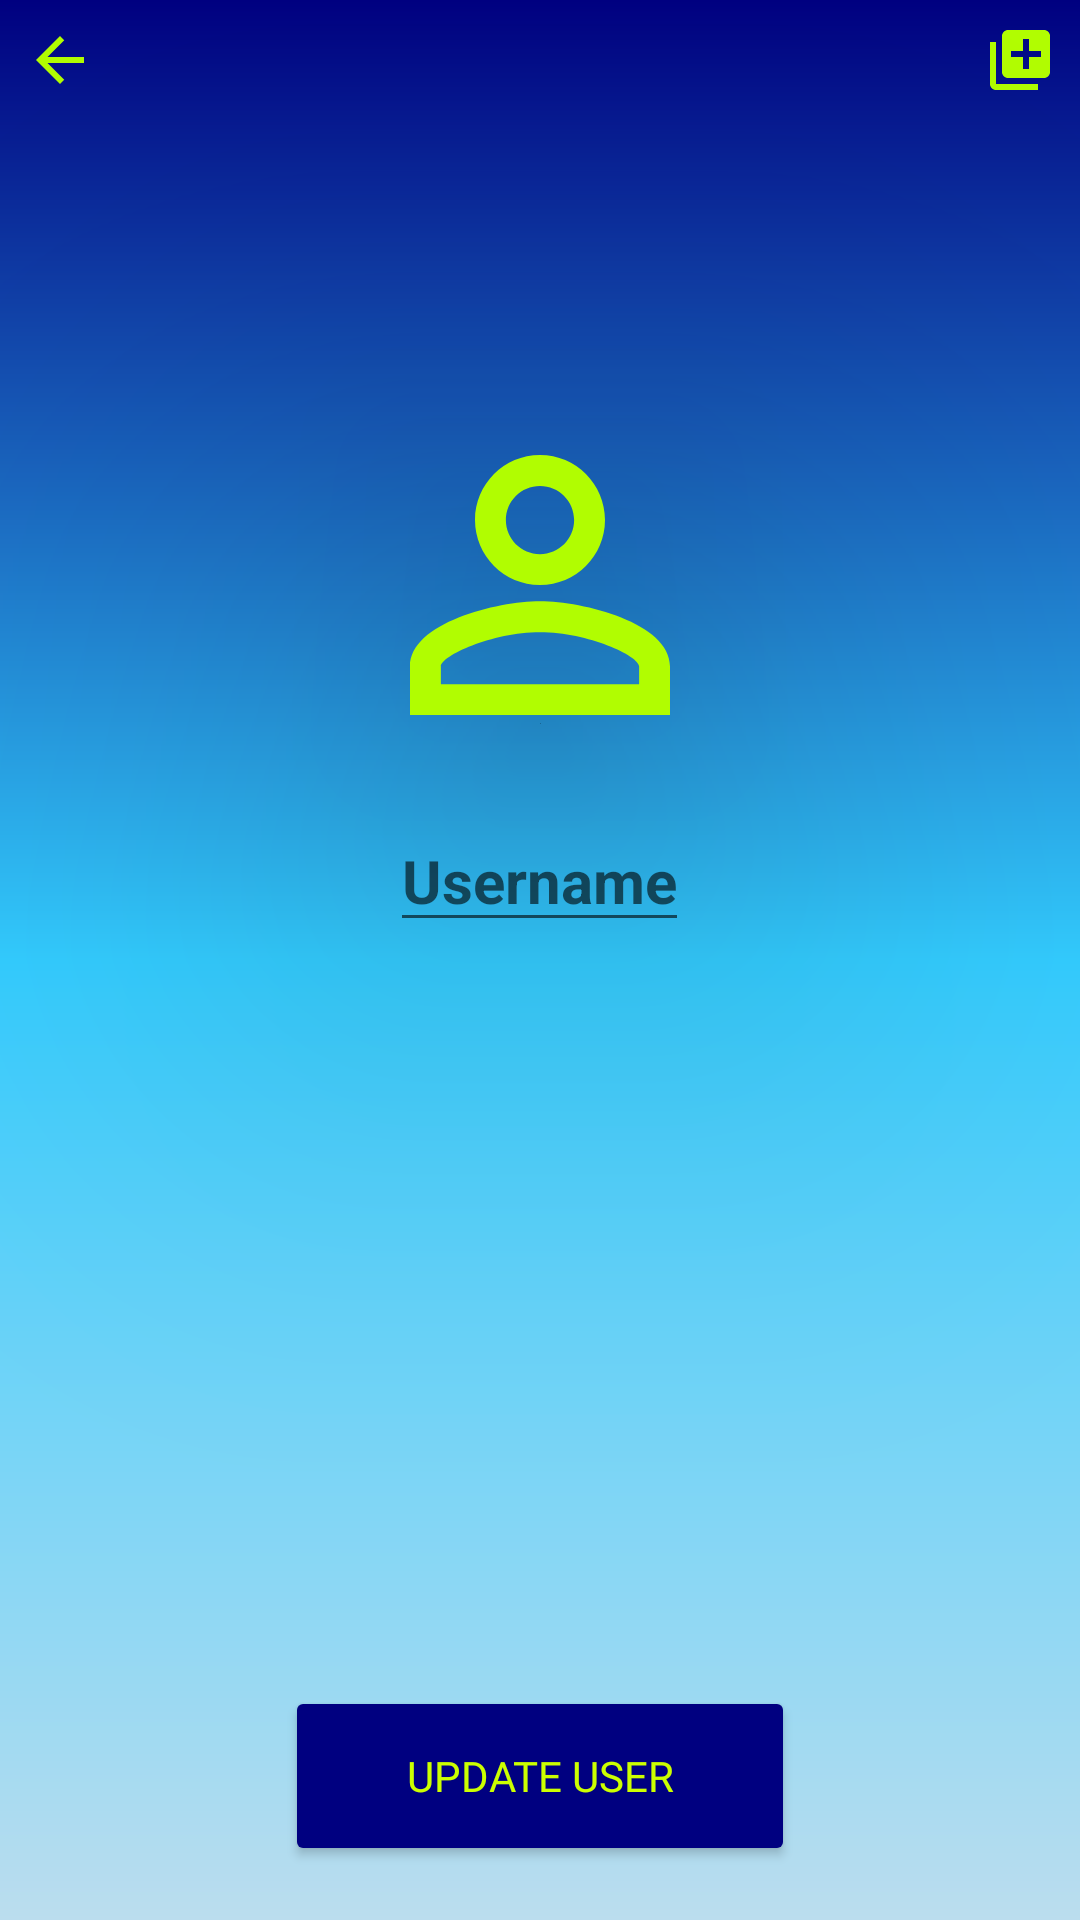

Point at icon controls on the screen. Image size 1080w x 1920h, points as (x,y).
add to photos: (1020,60)
